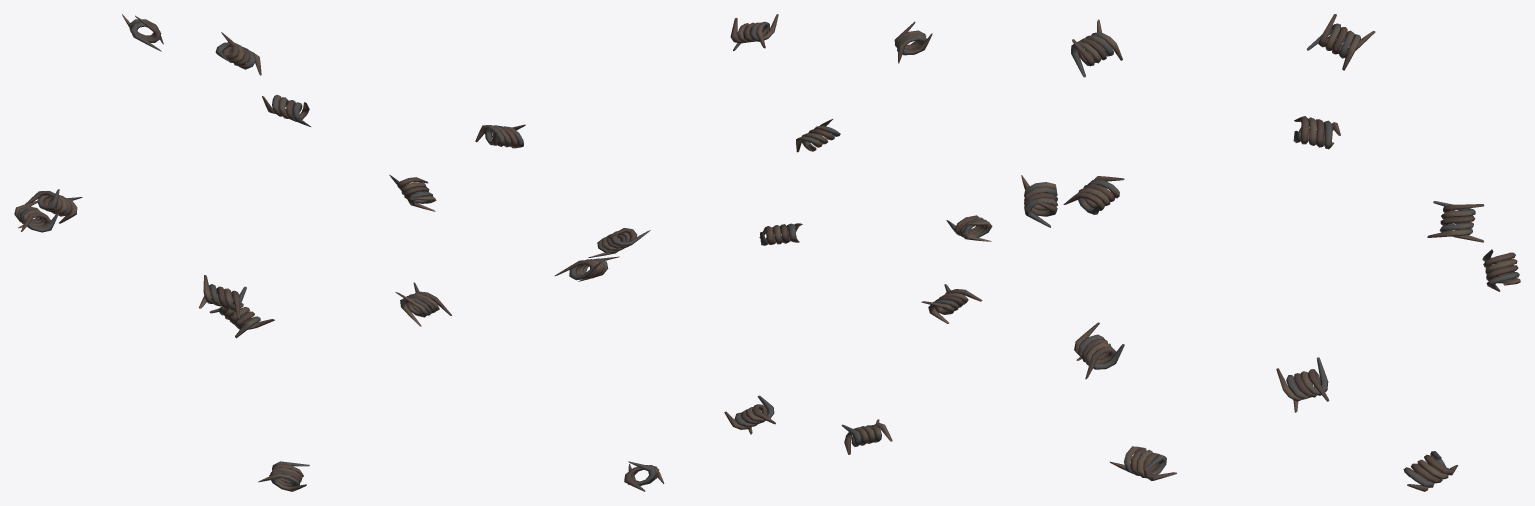
The model's file is wire5.glb.
3 views of the same model, side by side, from view 1: azimuth 30°, elevation 25°; view 2: azimuth 150°, elevation 25°; view 3: azimuth 270°, elevation 25° (orthographic). The views are drawn at different scales.
Visible parts, largest first — view 1: Rail_Wire_6, Rail_Wire_5, Rail_Wire_3, Rail_Wire, Rail_Wire_8, Rail_Wire_11, Rail_Wire_7, Rail_Wire_4, Rail_Wire_10, Rail_Wire_2, Rail_Wire_9; view 2: Rail_Wire_11, Rail_Wire_4, Rail_Wire_3, Rail_Wire, Rail_Wire_8, Rail_Wire_7, Rail_Wire_10, Rail_Wire_5, Rail_Wire_9, Rail_Wire_6, Rail_Wire_2; view 3: Rail_Wire_7, Rail_Wire_6, Rail_Wire_10, Rail_Wire_8, Rail_Wire_9, Rail_Wire_11, Rail_Wire_5, Rail_Wire, Rail_Wire_2, Rail_Wire_3, Rail_Wire_4.
Boxes of the visible parts, x1,y1,x2,y2 form: Rail_Wire_6: (395, 282, 451, 326); Rail_Wire_5: (199, 275, 246, 317); Rail_Wire_3: (25, 189, 82, 223); Rail_Wire: (258, 461, 309, 491); Rail_Wire_8: (215, 32, 261, 75); Rail_Wire_11: (475, 124, 525, 148); Rail_Wire_7: (389, 174, 436, 211); Rail_Wire_4: (14, 200, 58, 232); Rail_Wire_10: (262, 95, 310, 126); Rail_Wire_2: (209, 294, 274, 338); Rail_Wire_9: (122, 14, 163, 51); Rail_Wire_11: (730, 14, 778, 50); Rail_Wire_4: (921, 284, 982, 323); Rail_Wire_3: (724, 395, 775, 434); Rail_Wire: (841, 419, 892, 454); Rail_Wire_8: (588, 228, 650, 257); Rail_Wire_7: (554, 256, 619, 281); Rail_Wire_10: (894, 21, 932, 63); Rail_Wire_5: (946, 215, 992, 241); Rail_Wire_9: (796, 119, 840, 152); Rail_Wire_6: (759, 223, 802, 245); Rail_Wire_2: (624, 461, 664, 491); Rail_Wire_7: (1276, 357, 1329, 412); Rail_Wire_6: (1074, 322, 1124, 379); Rail_Wire_10: (1071, 19, 1122, 77); Rail_Wire_8: (1427, 201, 1484, 242); Rail_Wire_9: (1306, 14, 1375, 70); Rail_Wire_11: (1021, 175, 1057, 227); Rail_Wire_5: (1063, 176, 1124, 214); Rail_Wire: (1110, 446, 1176, 480); Rail_Wire_2: (1403, 451, 1458, 491); Rail_Wire_3: (1482, 249, 1520, 291); Rail_Wire_4: (1293, 116, 1340, 149).
Bounding box in the file's own units: 9.39 × 8.85 × 9.29.
1 material, 1 textured.
